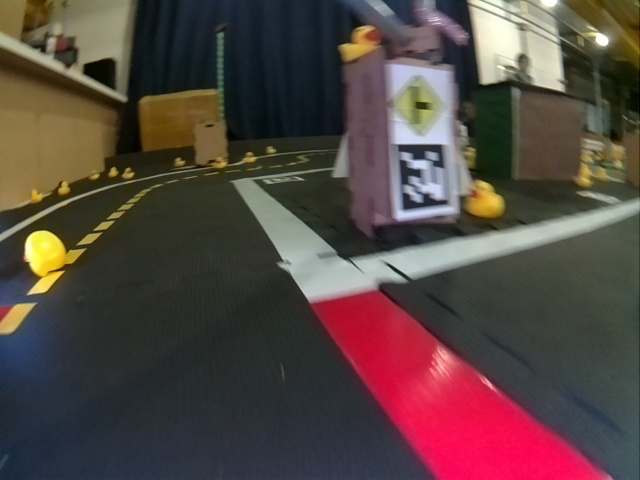Duckie: (25, 231, 63, 274), (468, 182, 504, 217), (341, 27, 380, 59), (575, 169, 592, 187), (58, 181, 71, 194), (31, 190, 42, 202), (122, 168, 134, 179), (213, 158, 226, 168), (174, 157, 184, 167), (89, 170, 99, 180), (245, 153, 256, 162), (109, 167, 118, 176), (267, 146, 276, 154)
Intersection sign: (387, 75, 449, 137)
QR code: (395, 142, 450, 212), (264, 175, 304, 185)
